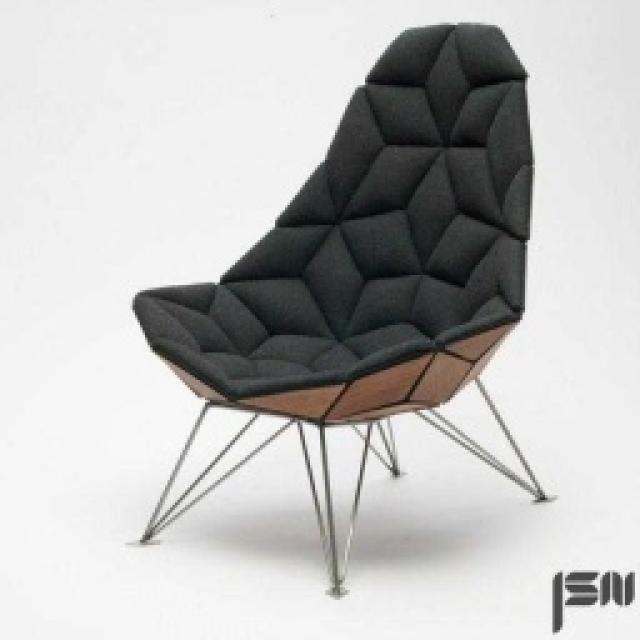sandalye: (130, 20, 555, 598)
